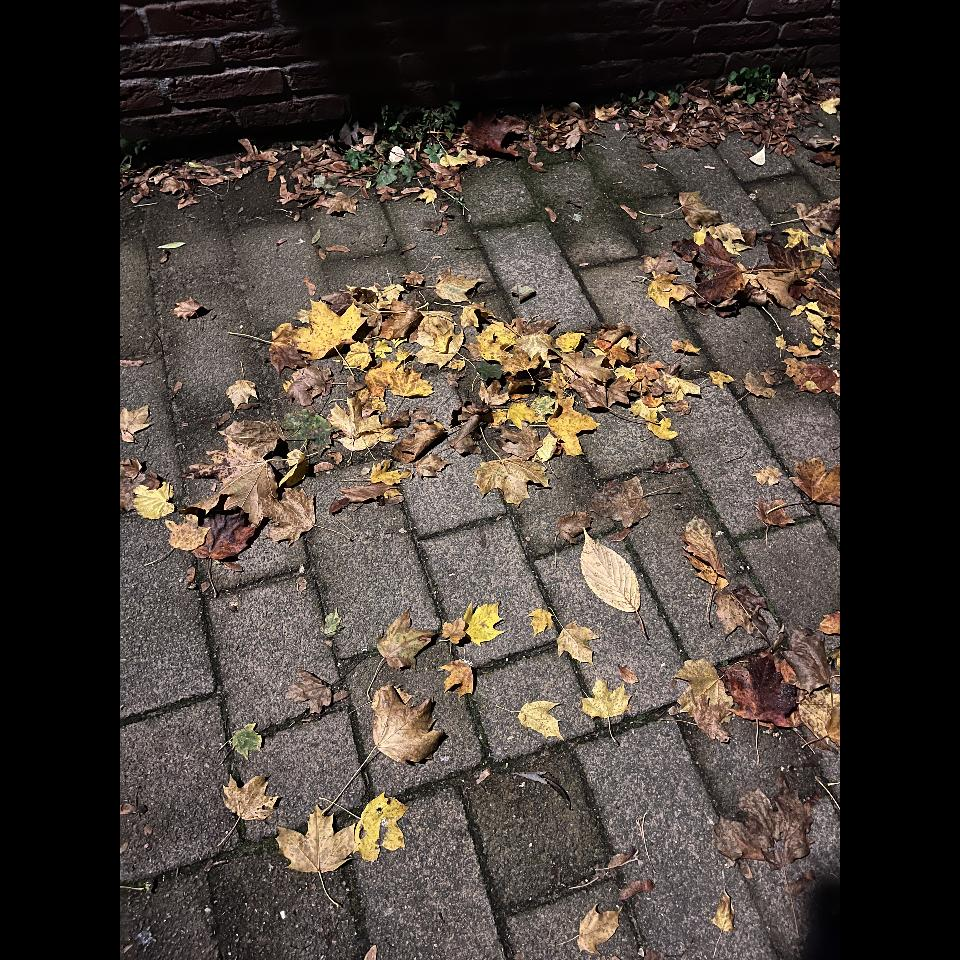weed: (732, 42, 784, 110), (366, 90, 436, 138), (628, 63, 702, 107), (368, 154, 430, 200), (286, 404, 334, 454), (422, 104, 448, 162), (350, 150, 368, 174)
